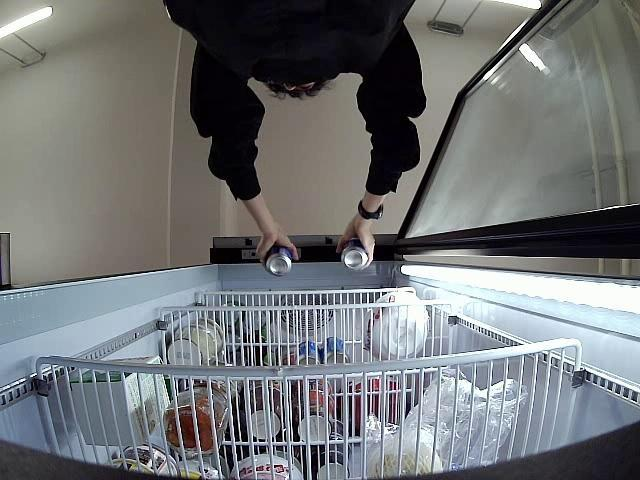13_pocariSweat: (264, 246, 292, 276), (340, 240, 367, 271)
